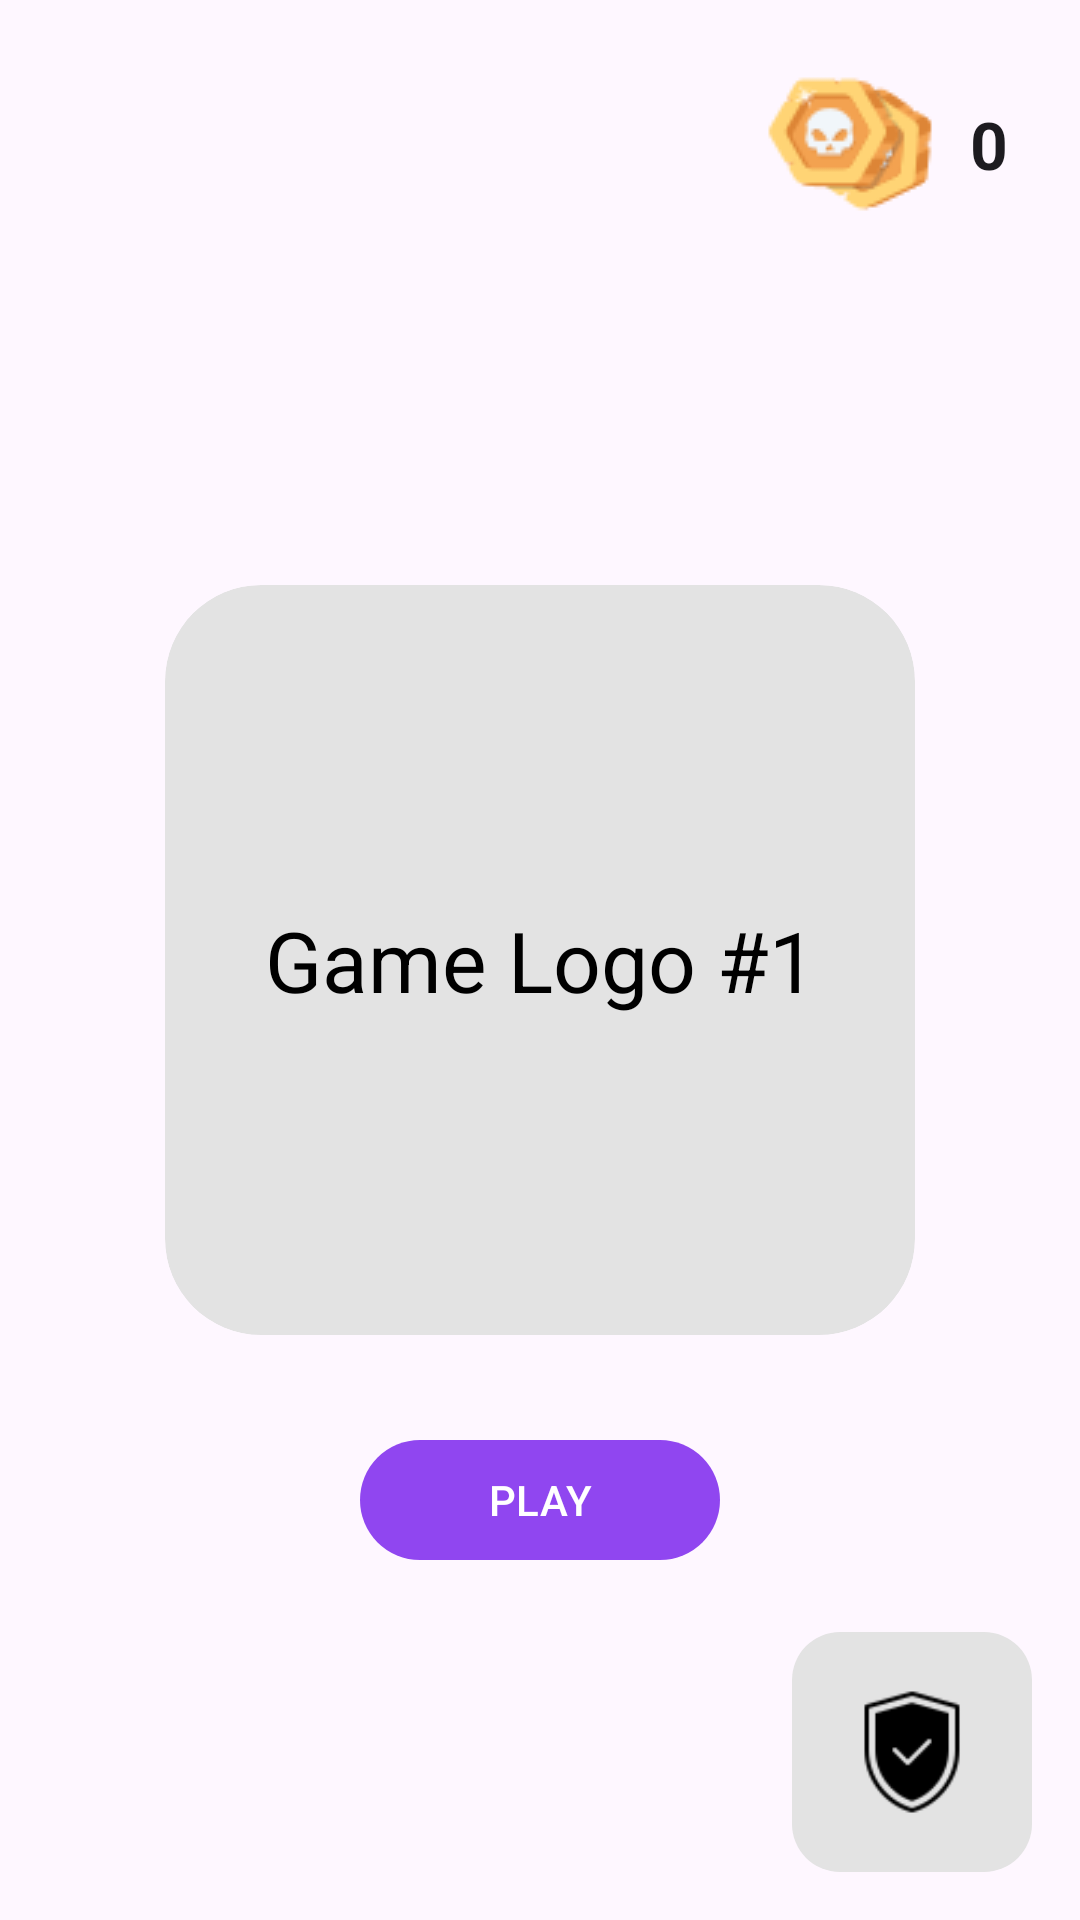

Locate icon controls on the screen. Image size 1080px×1920px, boxes as (x1, y1, x2, y2).
Coins rewards image: (768, 78, 932, 210)
Safe button: (792, 1632, 1032, 1872)
